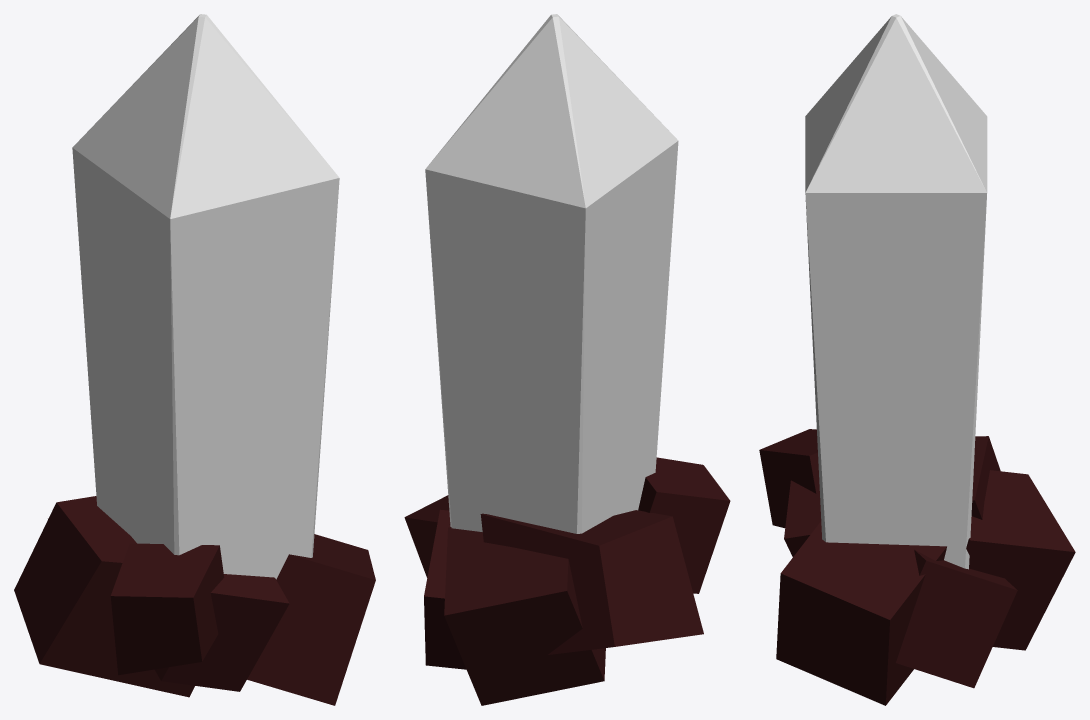
File: lavaCrystal.fbx
3 views of the same model, side by side, from view 1: azimuth 30°, elevation 25°; view 2: azimuth 150°, elevation 25°; view 3: azimuth 270°, elevation 25° (orthographic). The views are drawn at different scales.
Parts seen in each view (by area): view 1: LavaCrystal; view 2: LavaCrystal; view 3: LavaCrystal.
Part boxes in pixels (x1=…): LavaCrystal: x1=14, y1=14, x2=375, y2=705; LavaCrystal: x1=404, y1=14, x2=730, y2=705; LavaCrystal: x1=759, y1=14, x2=1075, y2=705.
Bounding box in the file's own units: 74.17 × 151 × 67.84.
